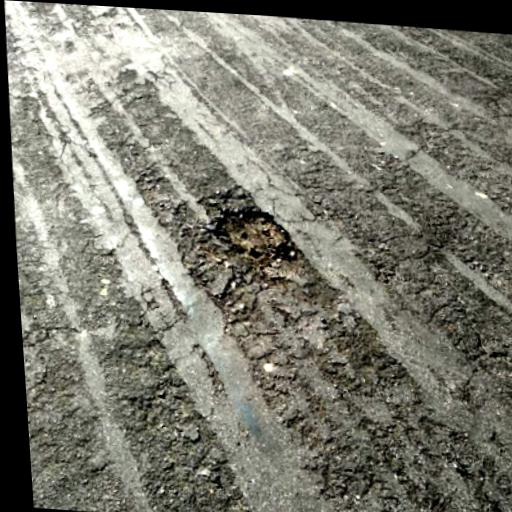pothole: (209, 204, 296, 261)
